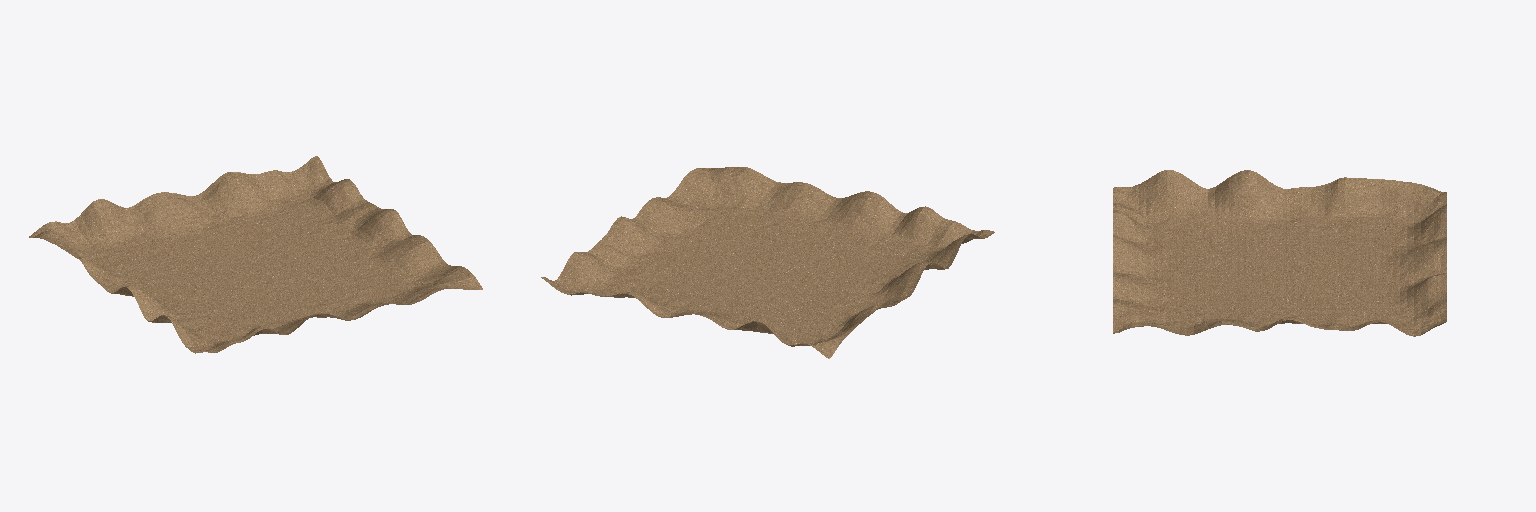
3 views of the same model, side by side, from view 1: azimuth 30°, elevation 25°; view 2: azimuth 150°, elevation 25°; view 3: azimuth 270°, elevation 25° (orthographic).
Bounding box in the file's own units: 397 × 41.23 × 397.
Materials: 1 (1 with a texture image).